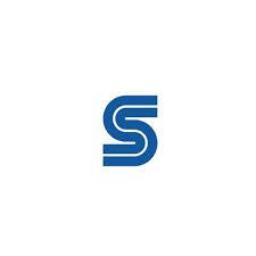s: (95, 90, 167, 174)
